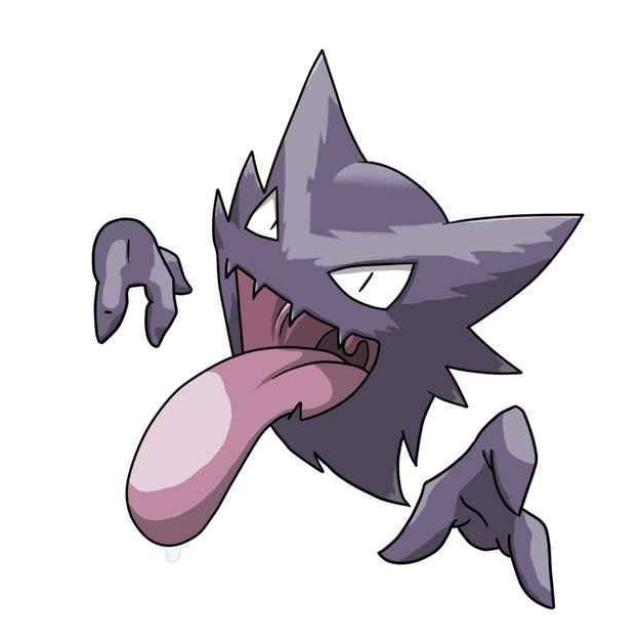Haunter: (124, 122, 531, 560)
